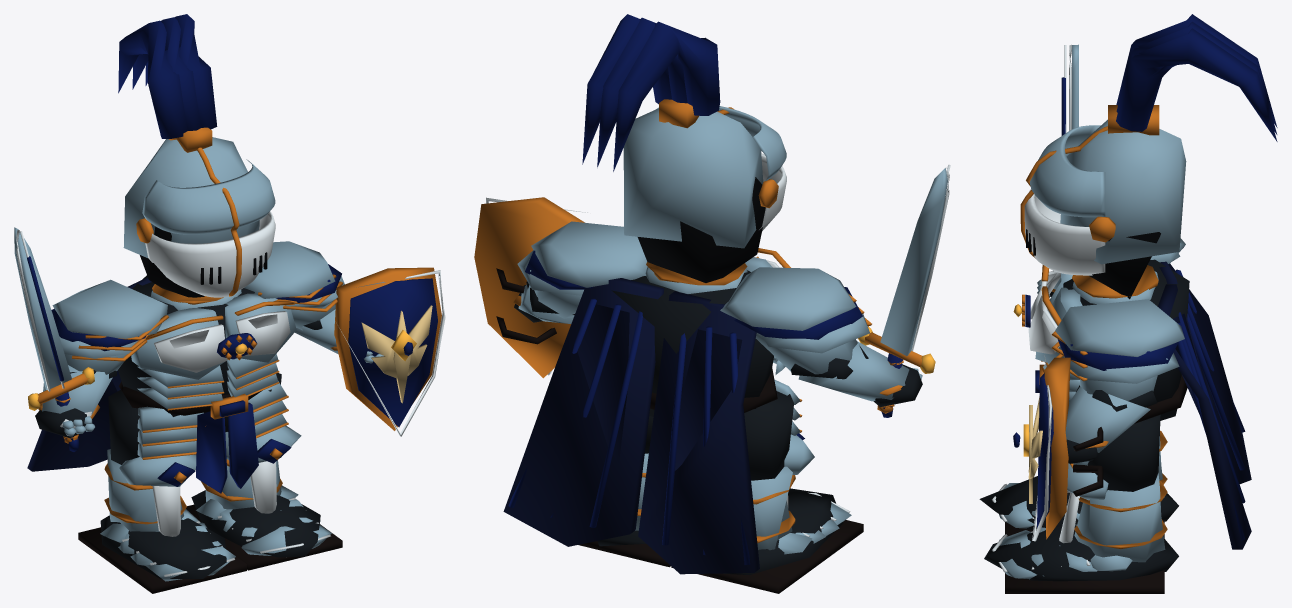
The model's file is knight.glb.
The picture shows the model from 3 angles, left to right: view 1: azimuth 30°, elevation 25°; view 2: azimuth 150°, elevation 25°; view 3: azimuth 270°, elevation 25°; orthographic projection. The views are drawn at different scales.
Parts seen in each view (by area): view 1: Body_Geometry, Head_Geometry, Leg_R_Geometry, Weapon_Pistol_Geometry, Leg_L_Geometry, Arm_R_Geometry, Arm_L_Geometry, Weapon_Cutlass_Geometry; view 2: Body_Geometry, Head_Geometry, Arm_R_Geometry, Leg_R_Geometry, Weapon_Pistol_Geometry, Arm_L_Geometry, Weapon_Cutlass_Geometry, Leg_L_Geometry; view 3: Head_Geometry, Leg_L_Geometry, Body_Geometry, Arm_L_Geometry, Weapon_Pistol_Geometry, Leg_R_Geometry, Weapon_Cutlass_Geometry.
Part boxes in pixels (box(x1,y1,x2,y2)): Body_Geometry: box(27, 275, 296, 493); Head_Geometry: box(118, 14, 275, 297); Leg_R_Geometry: box(78, 390, 246, 593); Weapon_Pistol_Geometry: box(334, 267, 445, 436); Leg_L_Geometry: box(186, 373, 342, 570); Arm_R_Geometry: box(35, 279, 168, 438); Arm_L_Geometry: box(244, 241, 383, 363); Weapon_Cutlass_Geometry: box(14, 227, 94, 451); Body_Geometry: box(503, 248, 802, 574); Head_Geometry: box(582, 14, 786, 282); Arm_R_Geometry: box(720, 267, 922, 406); Leg_R_Geometry: box(671, 391, 863, 593); Weapon_Pistol_Geometry: box(474, 197, 587, 378); Arm_L_Geometry: box(513, 221, 647, 323); Weapon_Cutlass_Geometry: box(858, 165, 950, 417); Leg_L_Geometry: box(578, 416, 670, 567); Head_Geometry: box(1020, 14, 1277, 299); Leg_L_Geometry: box(984, 414, 1178, 593); Body_Geometry: box(1013, 259, 1251, 549); Arm_L_Geometry: box(1051, 299, 1184, 463); Weapon_Pistol_Geometry: box(1013, 355, 1103, 541); Leg_R_Geometry: box(979, 430, 1178, 536); Weapon_Cutlass_Geometry: box(1061, 44, 1078, 135).
Size of the model in its own units: 2.5 by 2.81 by 1.44.
Materials: 1 (1 with a texture image).
